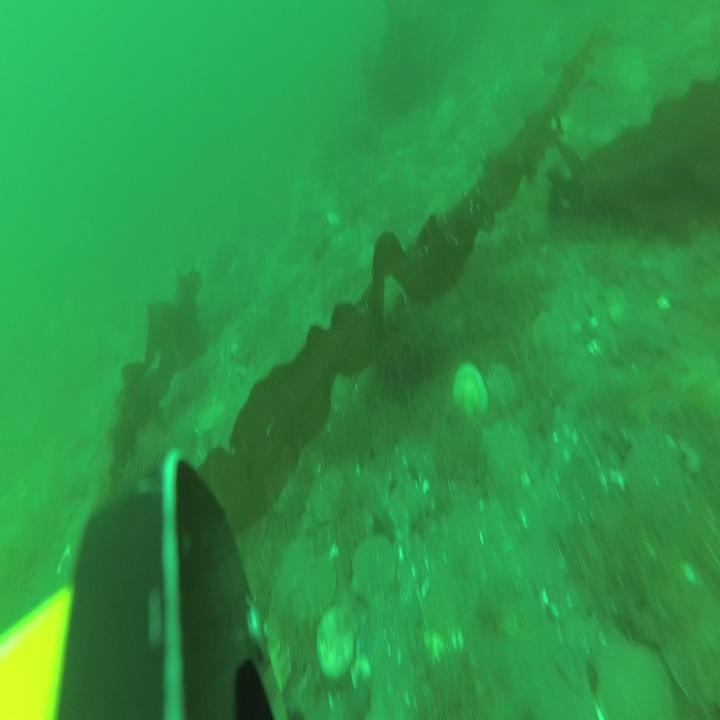scallop: (596, 635, 671, 720), (626, 433, 682, 517), (481, 421, 529, 499), (353, 533, 395, 605), (318, 609, 356, 680), (296, 556, 338, 620), (276, 538, 316, 598), (388, 472, 425, 534), (454, 362, 488, 425), (534, 307, 572, 361), (310, 470, 346, 520), (484, 364, 512, 424)
